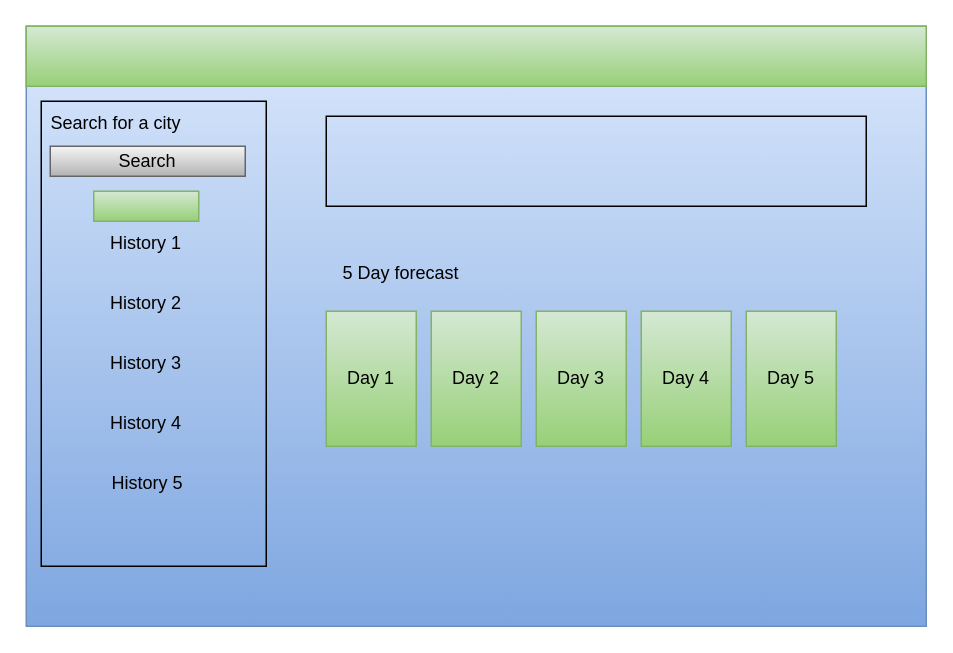
Some shapes in this 953 by 653 pixel diagram are drawn without their labels. Each missing label, with the centre of its shape:
"City(Date) Temperature Wind Humidity" belongs at point 595,160.
"Submit" belongs at point 145,205.
"Weather Dashboard" belongs at point 475,55.
